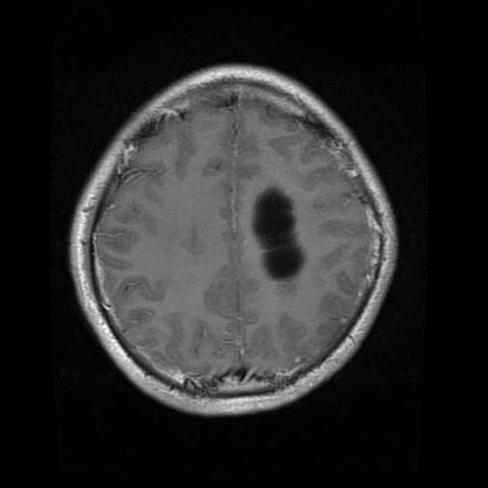Tumour-Glioma: (257, 188, 312, 291)
